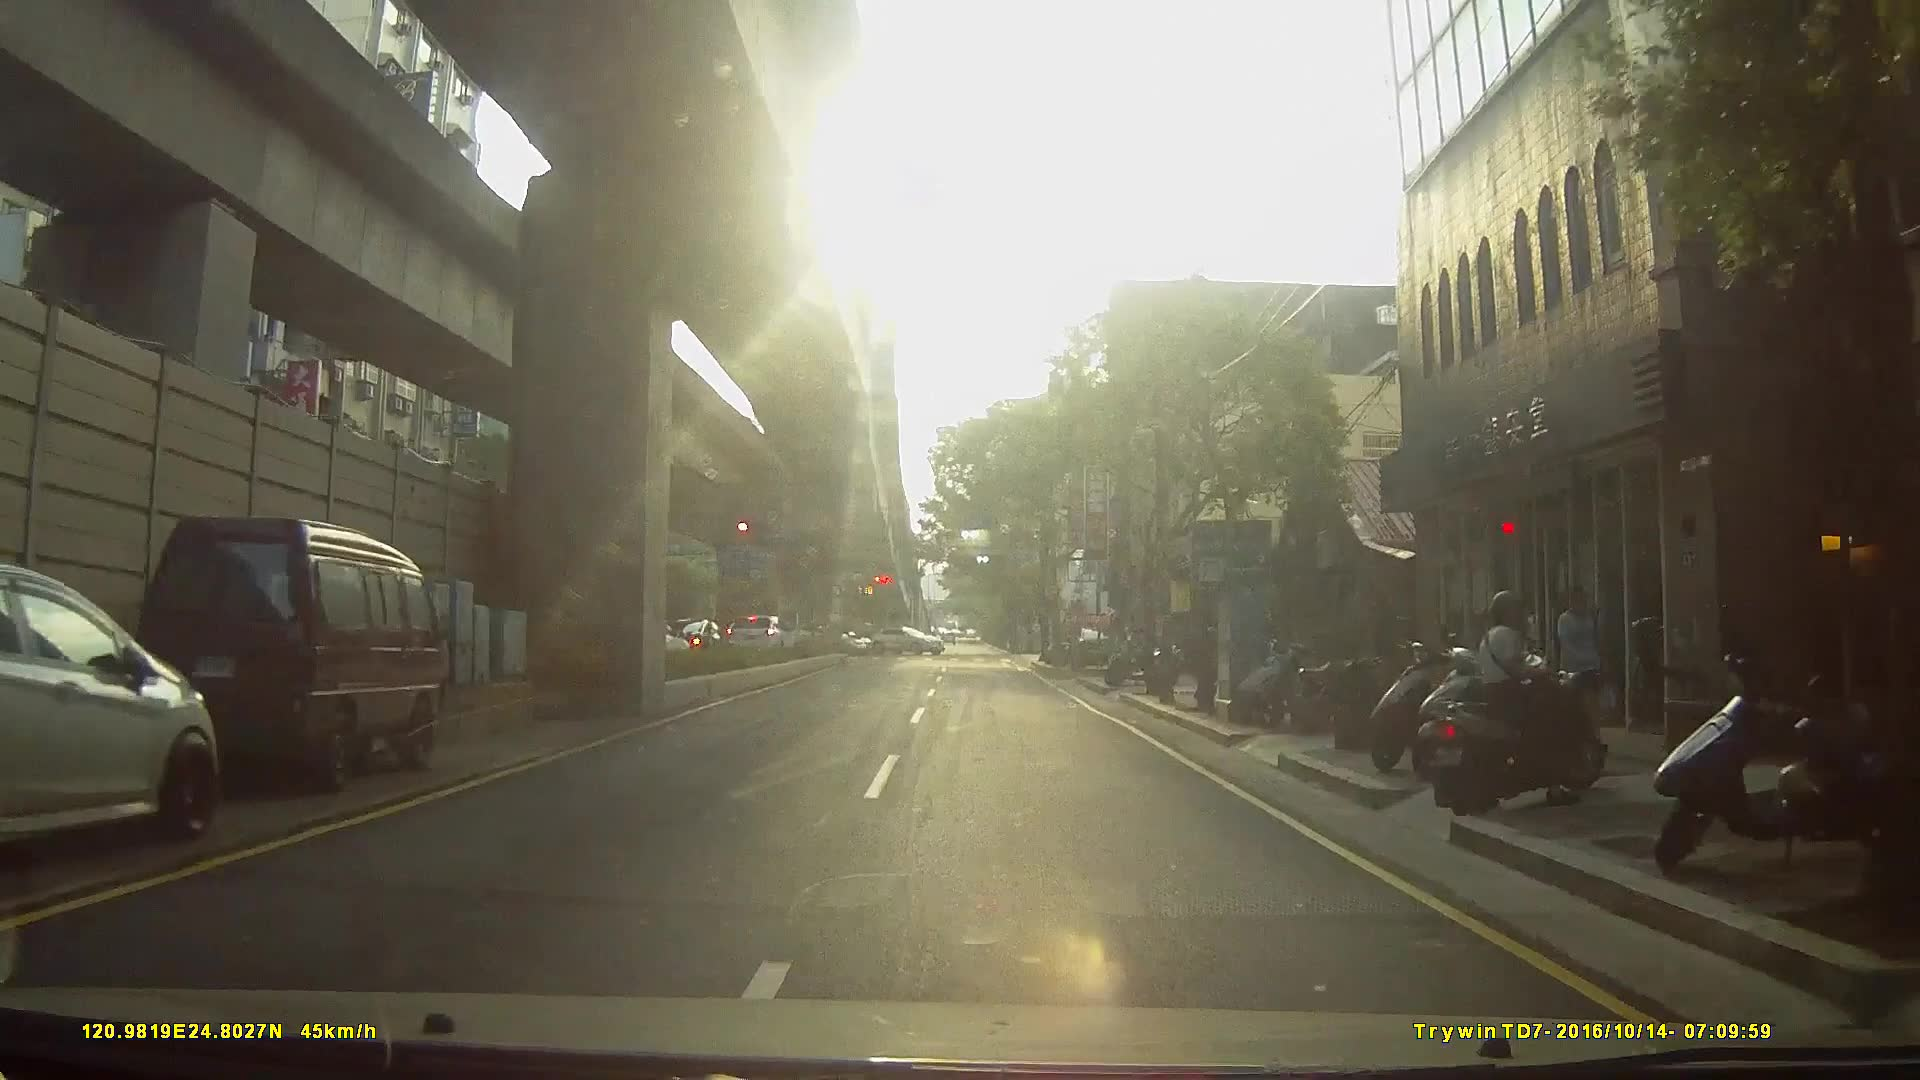pedestrian: (1554, 585, 1619, 759)
rider: (1435, 595, 1630, 824)
vehicle: (118, 507, 480, 798), (1, 559, 233, 858), (780, 622, 876, 660), (723, 614, 801, 660), (1065, 623, 1118, 671), (870, 627, 949, 657)
